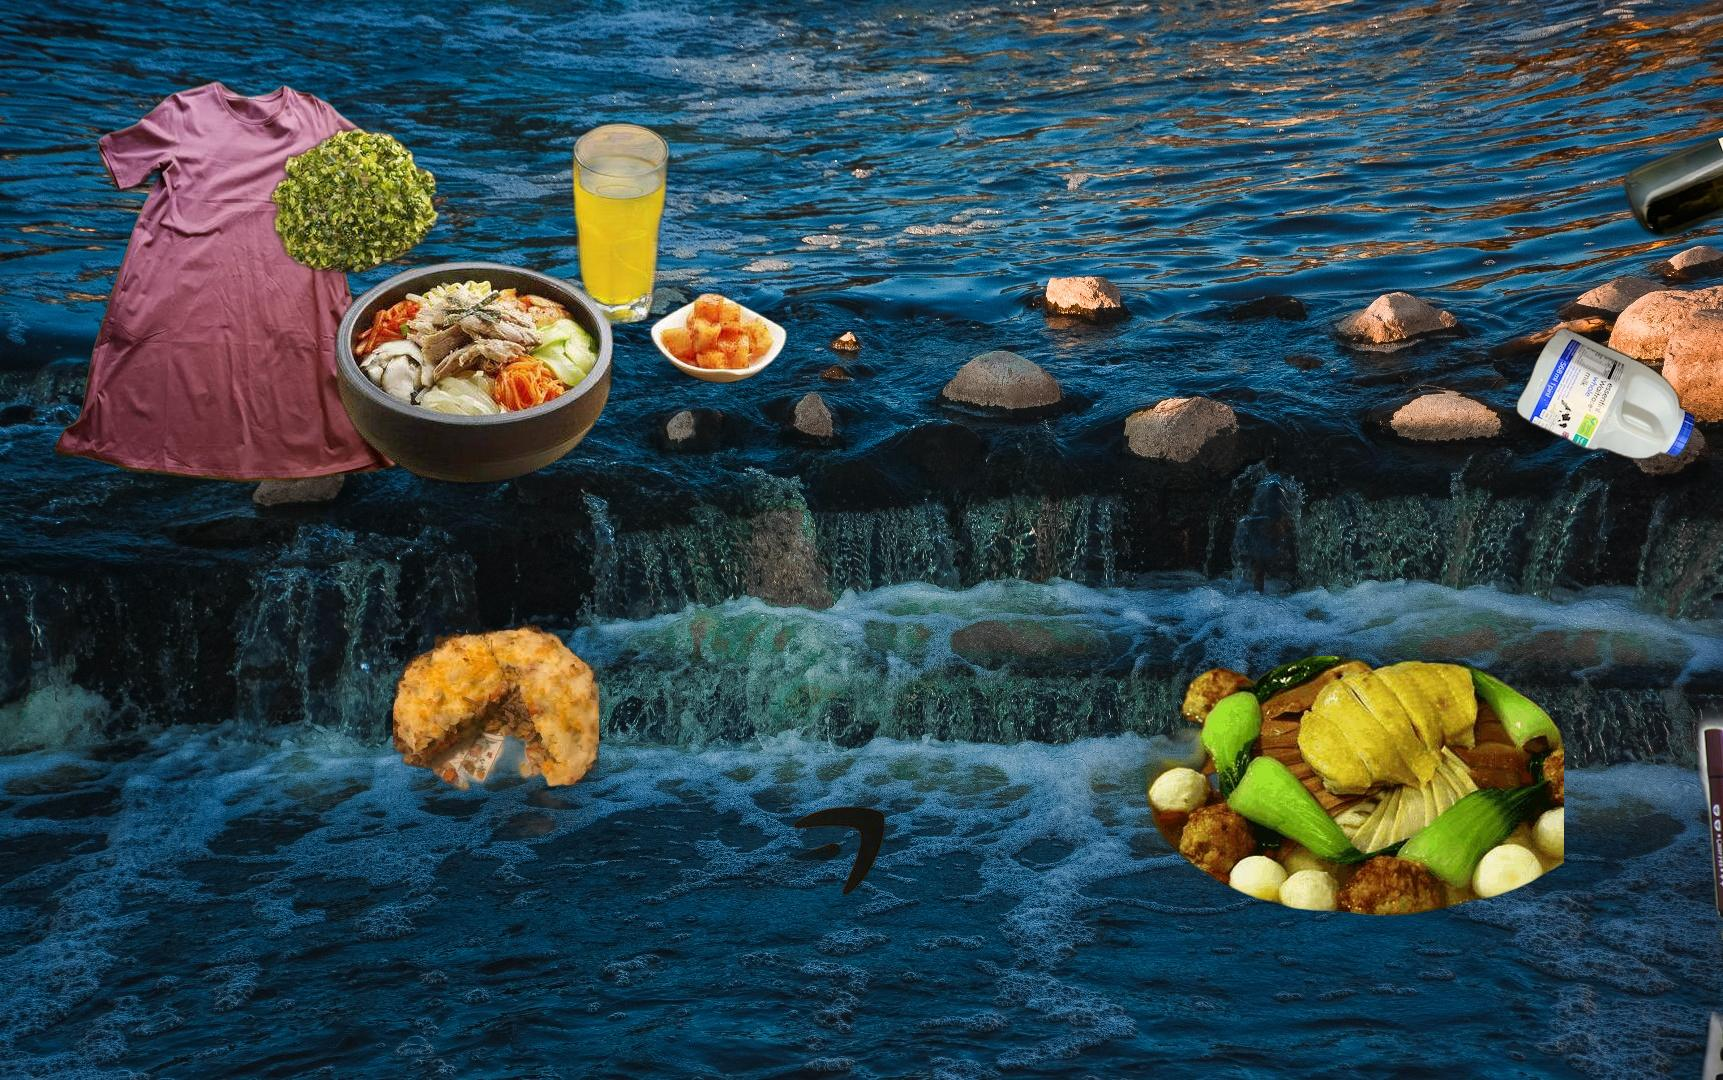biological: (265, 119, 792, 488), (1135, 656, 1564, 919), (393, 608, 598, 852)
clothes: (51, 77, 411, 486)
glass: (1554, 61, 1723, 561)
penholder: (1543, 698, 1723, 1080)
plastic-bottles: (1512, 322, 1701, 465)
trashbox-cardboard: (488, 667, 889, 967)
